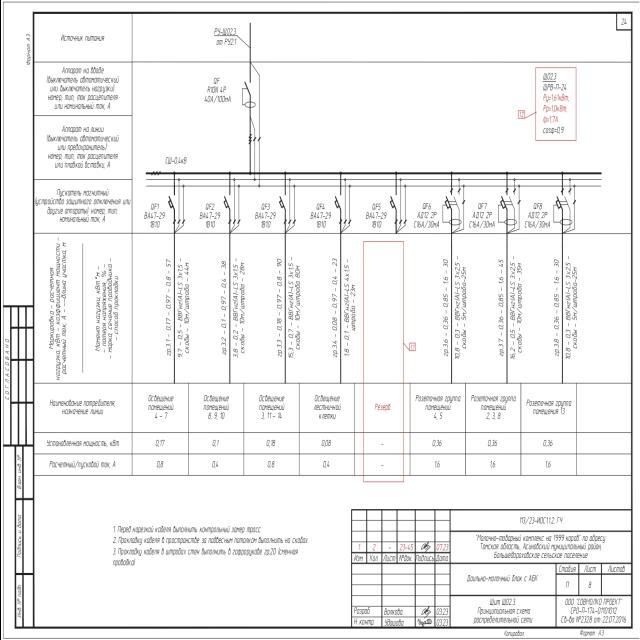-: (202, 85, 230, 104), (411, 210, 439, 228), (468, 211, 496, 229), (523, 213, 551, 231), (362, 210, 387, 228), (198, 212, 222, 230), (252, 212, 276, 230), (308, 212, 332, 230), (142, 212, 166, 230), (540, 82, 566, 92)
QD: (240, 79, 256, 109)
QF: (276, 188, 286, 224), (166, 190, 176, 225), (388, 190, 398, 225), (222, 190, 232, 224), (332, 190, 342, 224)
QFD: (552, 192, 572, 225), (496, 192, 516, 225), (441, 194, 461, 226)
